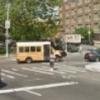buses: (16, 42, 62, 64)
